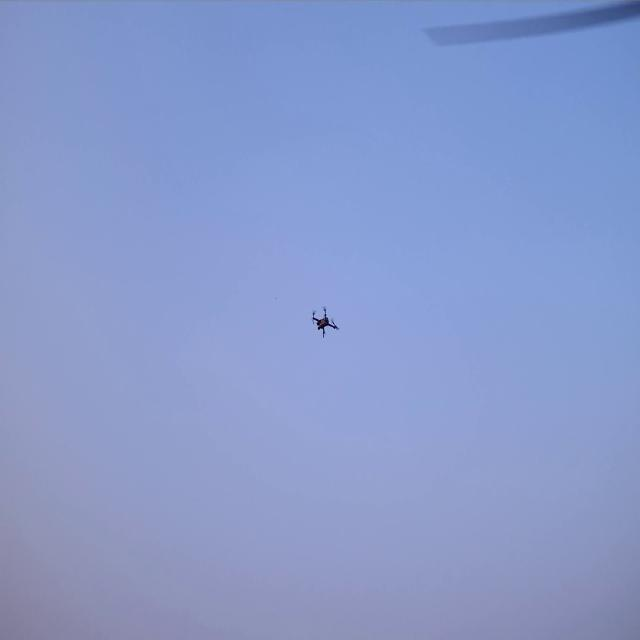UAV: (313, 309, 337, 337)
